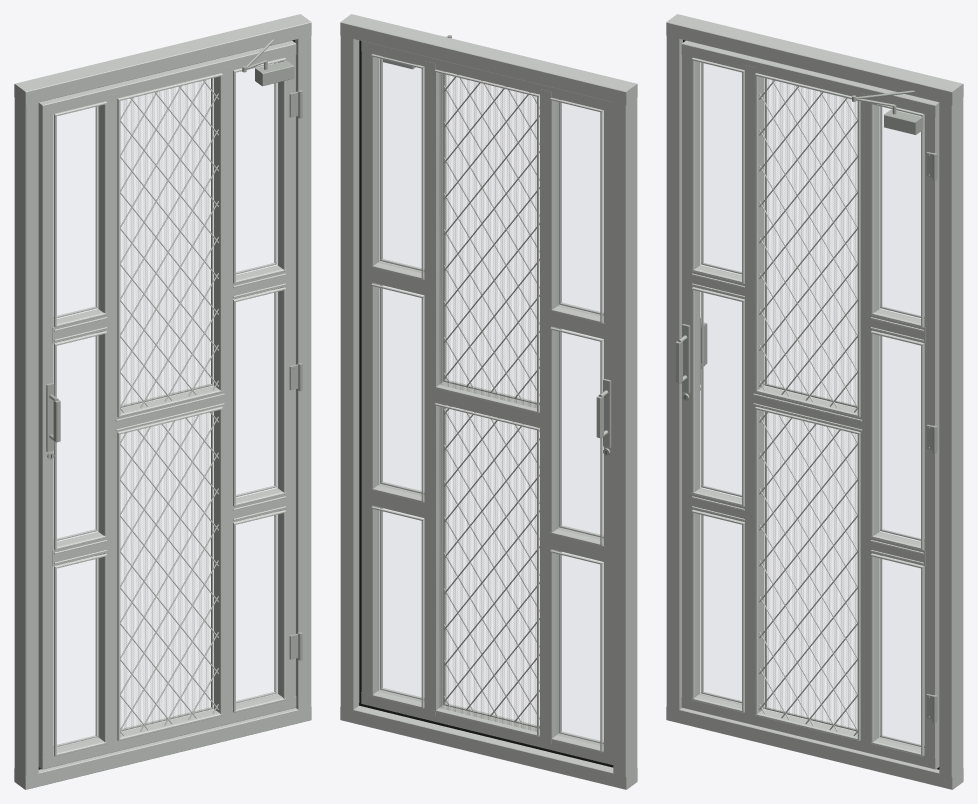
File: white-side-panel-screen-door-03.glb
The picture shows the model from 3 angles, left to right: view 1: azimuth 30°, elevation 25°; view 2: azimuth 150°, elevation 25°; view 3: azimuth 330°, elevation 25°; orthographic projection.
Visible parts, largest first — view 1: Outer jamb left stile, Diamond grille, Full-height mullion -0.182, Full-height mullion 0.182, Outer jamb right stile, Woven screen 1, Door leaf right stile, Door leaf left stile, Woven screen 0, Outer jamb top rail, Outer jamb bottom rail, Door leaf top rail (+31 smaller); view 2: Outer jamb left stile, Outer jamb right stile, Woven screen 1, Woven screen 0, Full-height mullion 0.182, Full-height mullion -0.182, Door leaf right stile, Diamond grille, Outer jamb top rail, Door leaf left stile, Outer jamb bottom rail, Door leaf bottom rail (+32 smaller); view 3: Outer jamb right stile, Diamond grille, Full-height mullion 0.182, Full-height mullion -0.182, Outer jamb left stile, Woven screen 1, Door leaf left stile, Woven screen 0, Door leaf right stile, Outer jamb top rail, Outer jamb bottom rail, Door leaf top rail (+33 smaller).
Part boxes in pixels (box(x1,y1,x2,y2)): Outer jamb left stile: box(14, 91, 38, 782); Diamond grille: box(120, 80, 218, 735); Full-height mullion -0.182: box(98, 93, 117, 748); Full-height mullion 0.182: box(214, 65, 232, 719); Outer jamb right stile: box(295, 30, 311, 716); Woven screen 1: box(121, 79, 213, 406); Door leaf right stile: box(277, 49, 295, 704); Door leaf left stile: box(38, 109, 53, 763); Woven screen 0: box(121, 412, 213, 730); Outer jamb top rail: box(14, 14, 311, 105); Outer jamb bottom rail: box(14, 707, 311, 789); Door leaf top rail: box(38, 40, 296, 116); Outer jamb left stile: box(613, 91, 637, 782); Outer jamb right stile: box(340, 29, 359, 715); Woven screen 1: box(439, 74, 536, 407); Woven screen 0: box(439, 407, 536, 731); Full-height mullion 0.182: box(424, 61, 443, 715); Full-height mullion -0.182: box(540, 89, 558, 744); Door leaf right stile: box(361, 45, 379, 700); Diamond grille: box(443, 74, 539, 727); Outer jamb top rail: box(340, 14, 637, 105); Door leaf left stile: box(603, 105, 613, 759); Outer jamb bottom rail: box(340, 705, 637, 789); Door leaf bottom rail: box(361, 689, 613, 764); Outer jamb right stile: box(939, 91, 963, 782); Diamond grille: box(759, 80, 857, 735); Full-height mullion 0.182: box(860, 93, 879, 748); Full-height mullion -0.182: box(745, 65, 763, 719); Outer jamb left stile: box(666, 29, 682, 715); Woven screen 1: box(765, 79, 857, 407); Door leaf left stile: box(682, 50, 700, 704); Woven screen 0: box(765, 413, 857, 730); Door leaf right stile: box(924, 109, 939, 763); Outer jamb top rail: box(666, 14, 963, 105); Outer jamb bottom rail: box(666, 707, 963, 789); Door leaf top rail: box(681, 40, 939, 116).
Size of the model in its own units: 0.9 by 2.1 by 0.1815.
6 materials, 1 textured.
